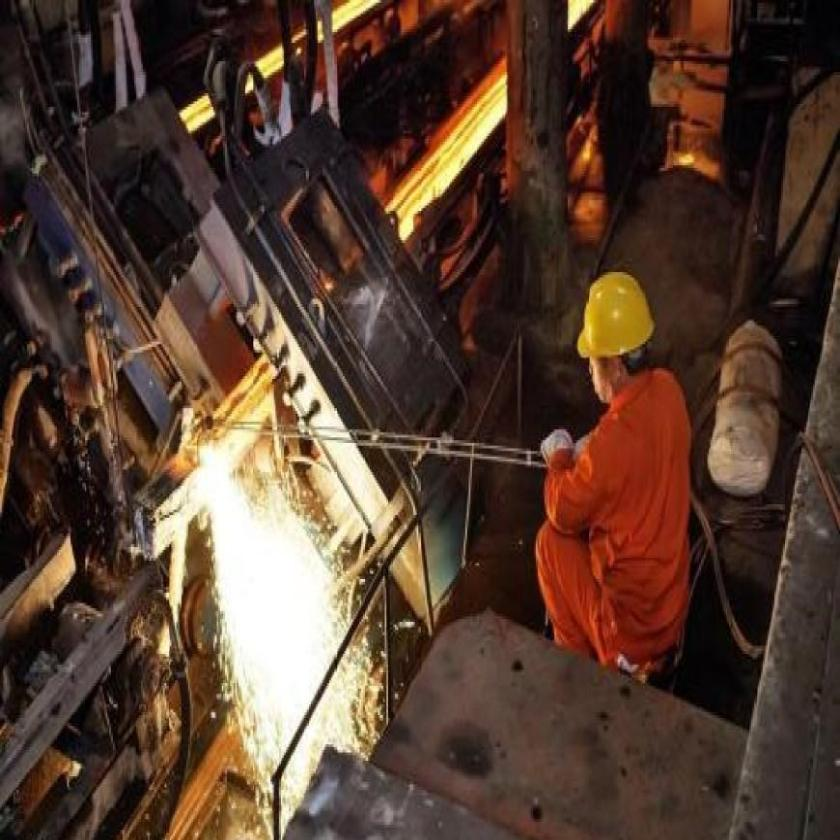Con_casco: (569, 268, 660, 410)
